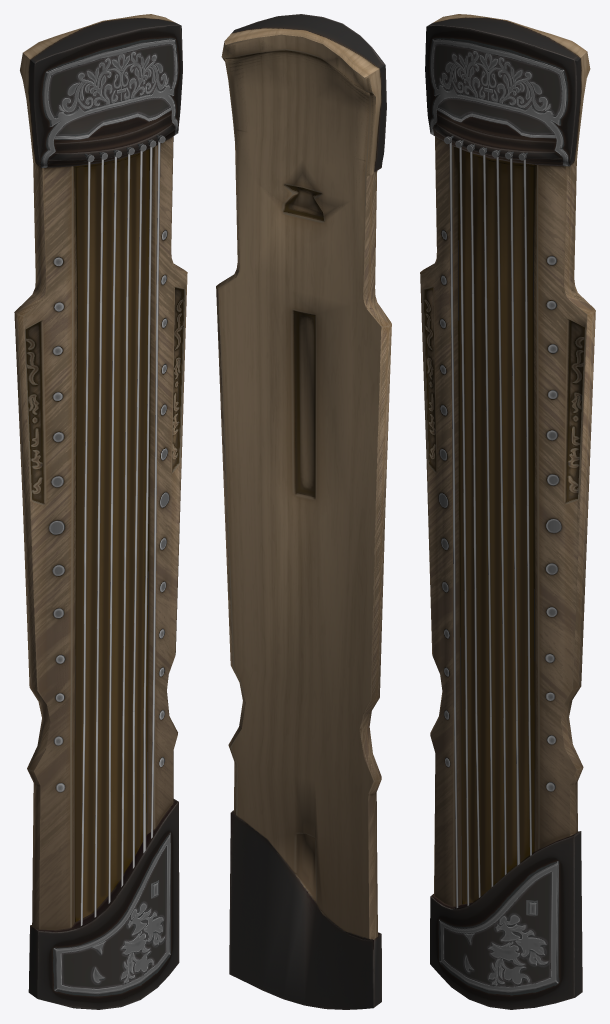
File: qin.FBX
3 views of the same model, side by side, from view 1: azimuth 30°, elevation 25°; view 2: azimuth 150°, elevation 25°; view 3: azimuth 330°, elevation 25° (orthographic).
Visible parts, largest first — view 1: weapon; view 2: weapon; view 3: weapon.
Part boxes in pixels (x1,y1,x2,y2): weapon: (14, 14, 187, 1009); weapon: (216, 14, 391, 1009); weapon: (420, 14, 595, 1009).
Size of the model in its own units: 26.3 by 143 by 10.15.
